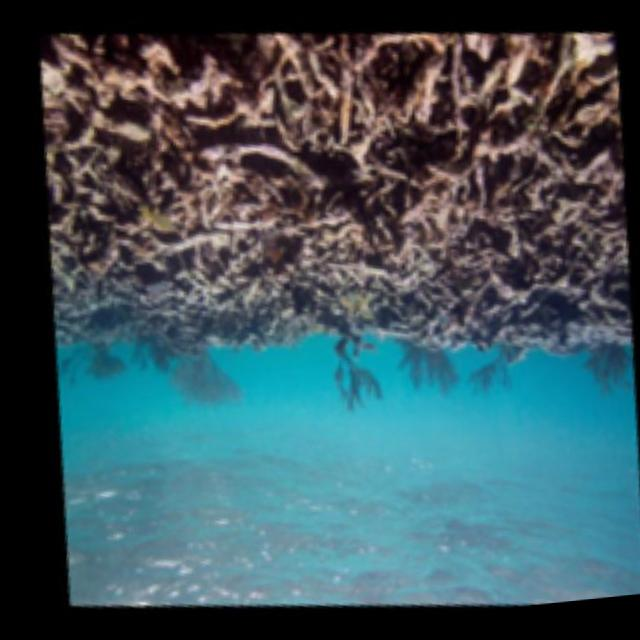Dead Coral: (244, 34, 561, 356), (346, 19, 640, 351), (16, 10, 309, 295)
